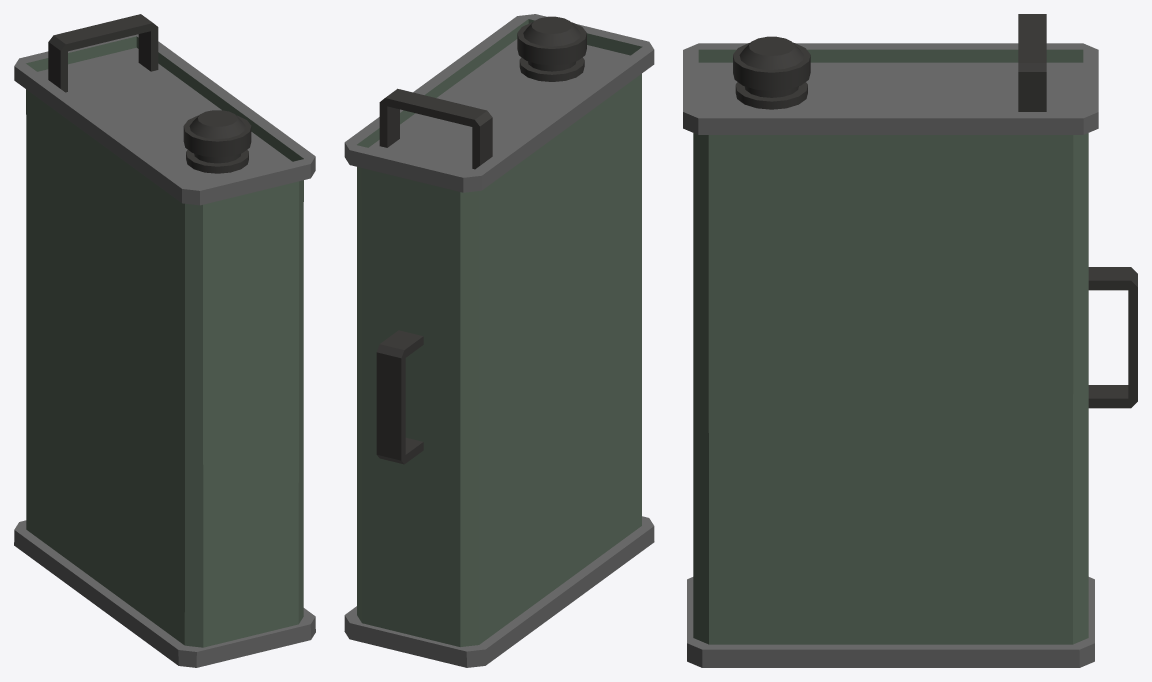
File: Oil_item.glb
The picture shows the model from 3 angles, left to right: view 1: azimuth 30°, elevation 25°; view 2: azimuth 150°, elevation 25°; view 3: azimuth 270°, elevation 25°; orthographic projection. The views are drawn at different scales.
Parts seen in each view (by area): view 1: Oil_item; view 2: Oil_item; view 3: Oil_item.
Part boxes in pixels (bbox=[...]): Oil_item: bbox=[14, 14, 315, 667]; Oil_item: bbox=[344, 14, 654, 667]; Oil_item: bbox=[683, 14, 1137, 667].
Size of the model in its own units: 0.238 by 0.8528 by 0.5946.
Materials: 1 (1 with a texture image).
